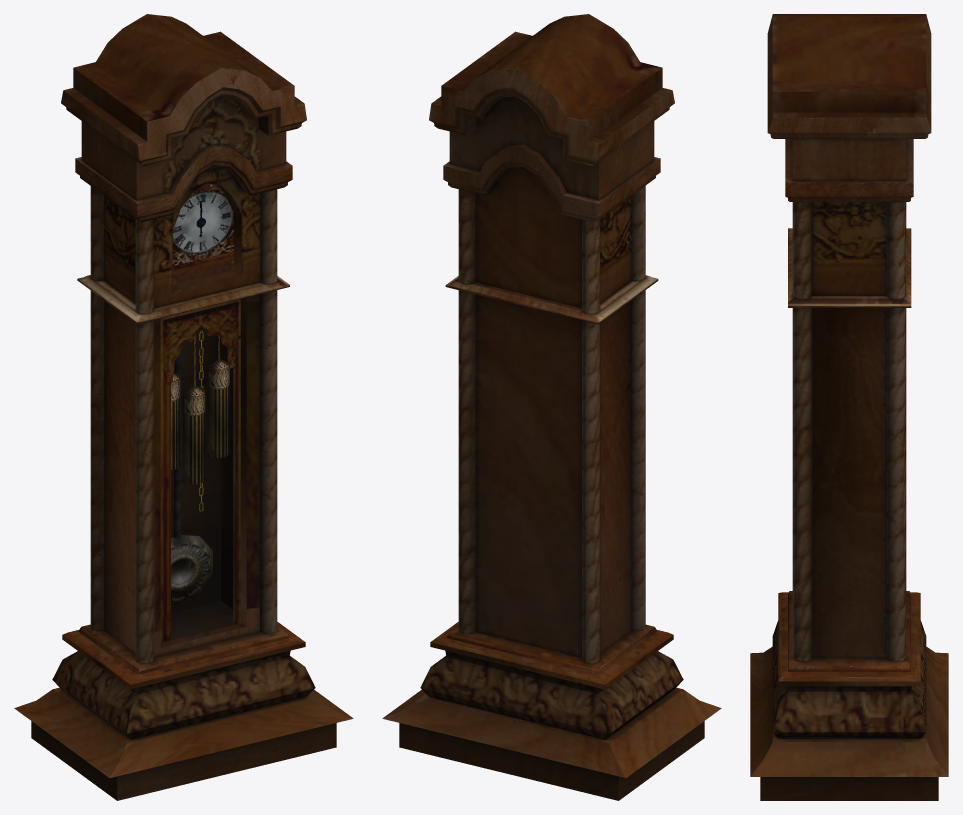
File: clock_grandfather.dae
The picture shows the model from 3 angles, left to right: view 1: azimuth 30°, elevation 25°; view 2: azimuth 150°, elevation 25°; view 3: azimuth 270°, elevation 25°; orthographic projection. The views are drawn at different scales.
Visible parts, largest first — view 1: clock, pendulum; view 2: clock; view 3: clock.
Boxes of the visible parts, <box> form: clock: <box>14,14,353,800</box>; pendulum: <box>171,349,212,606</box>; clock: <box>382,14,721,800</box>; clock: <box>750,14,948,800</box>.
Bounding box in the file's own units: 0.8633 × 2.37 × 0.5855.
